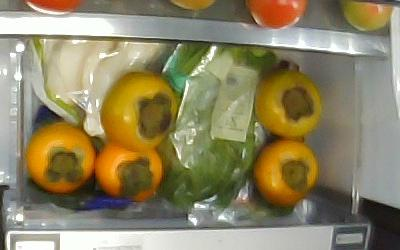persimmon: (100, 73, 178, 150), (25, 123, 96, 193), (253, 70, 322, 140), (251, 139, 317, 204), (94, 140, 161, 203)
